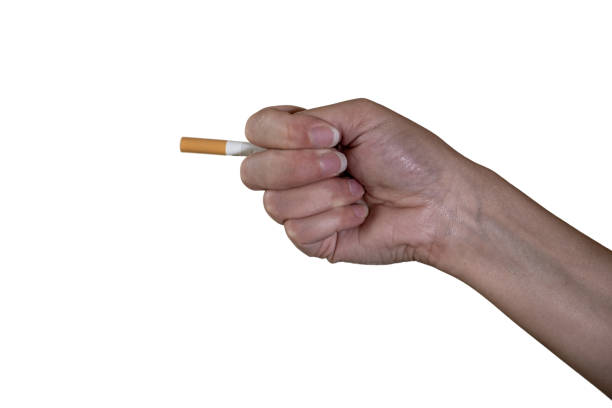cigarette: (173, 132, 269, 160)
